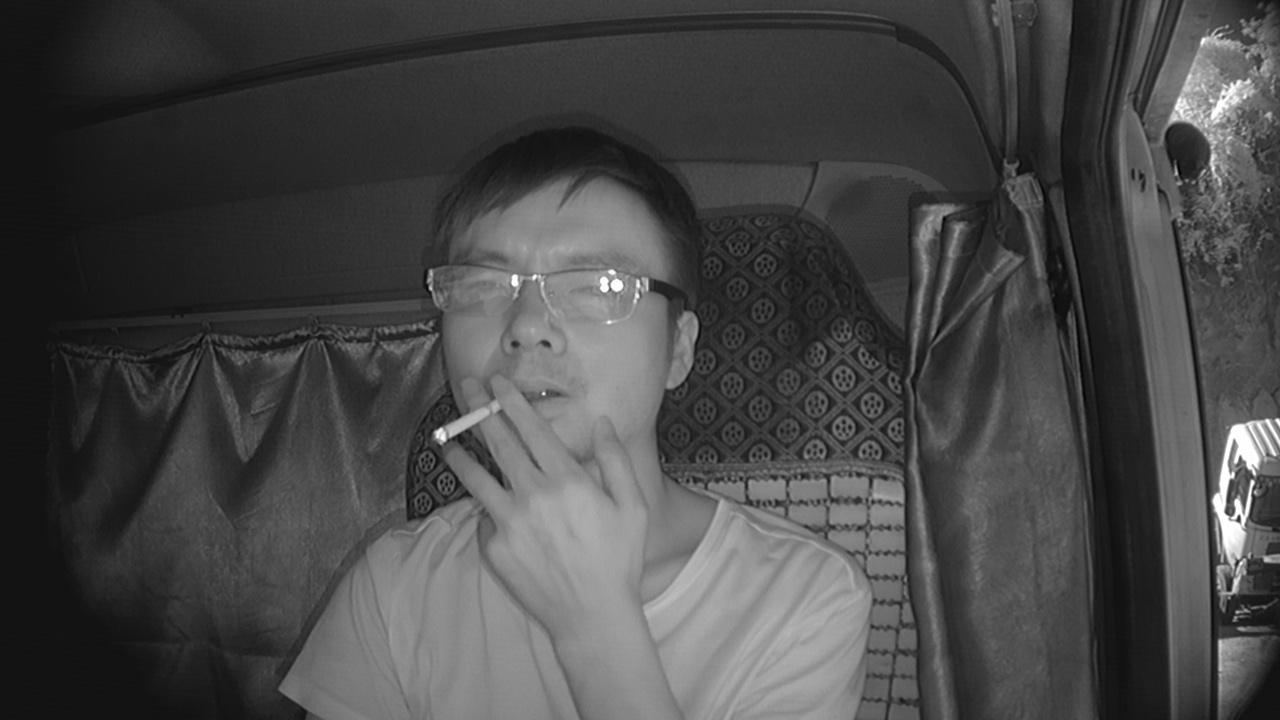hand: (436, 366, 620, 589)
